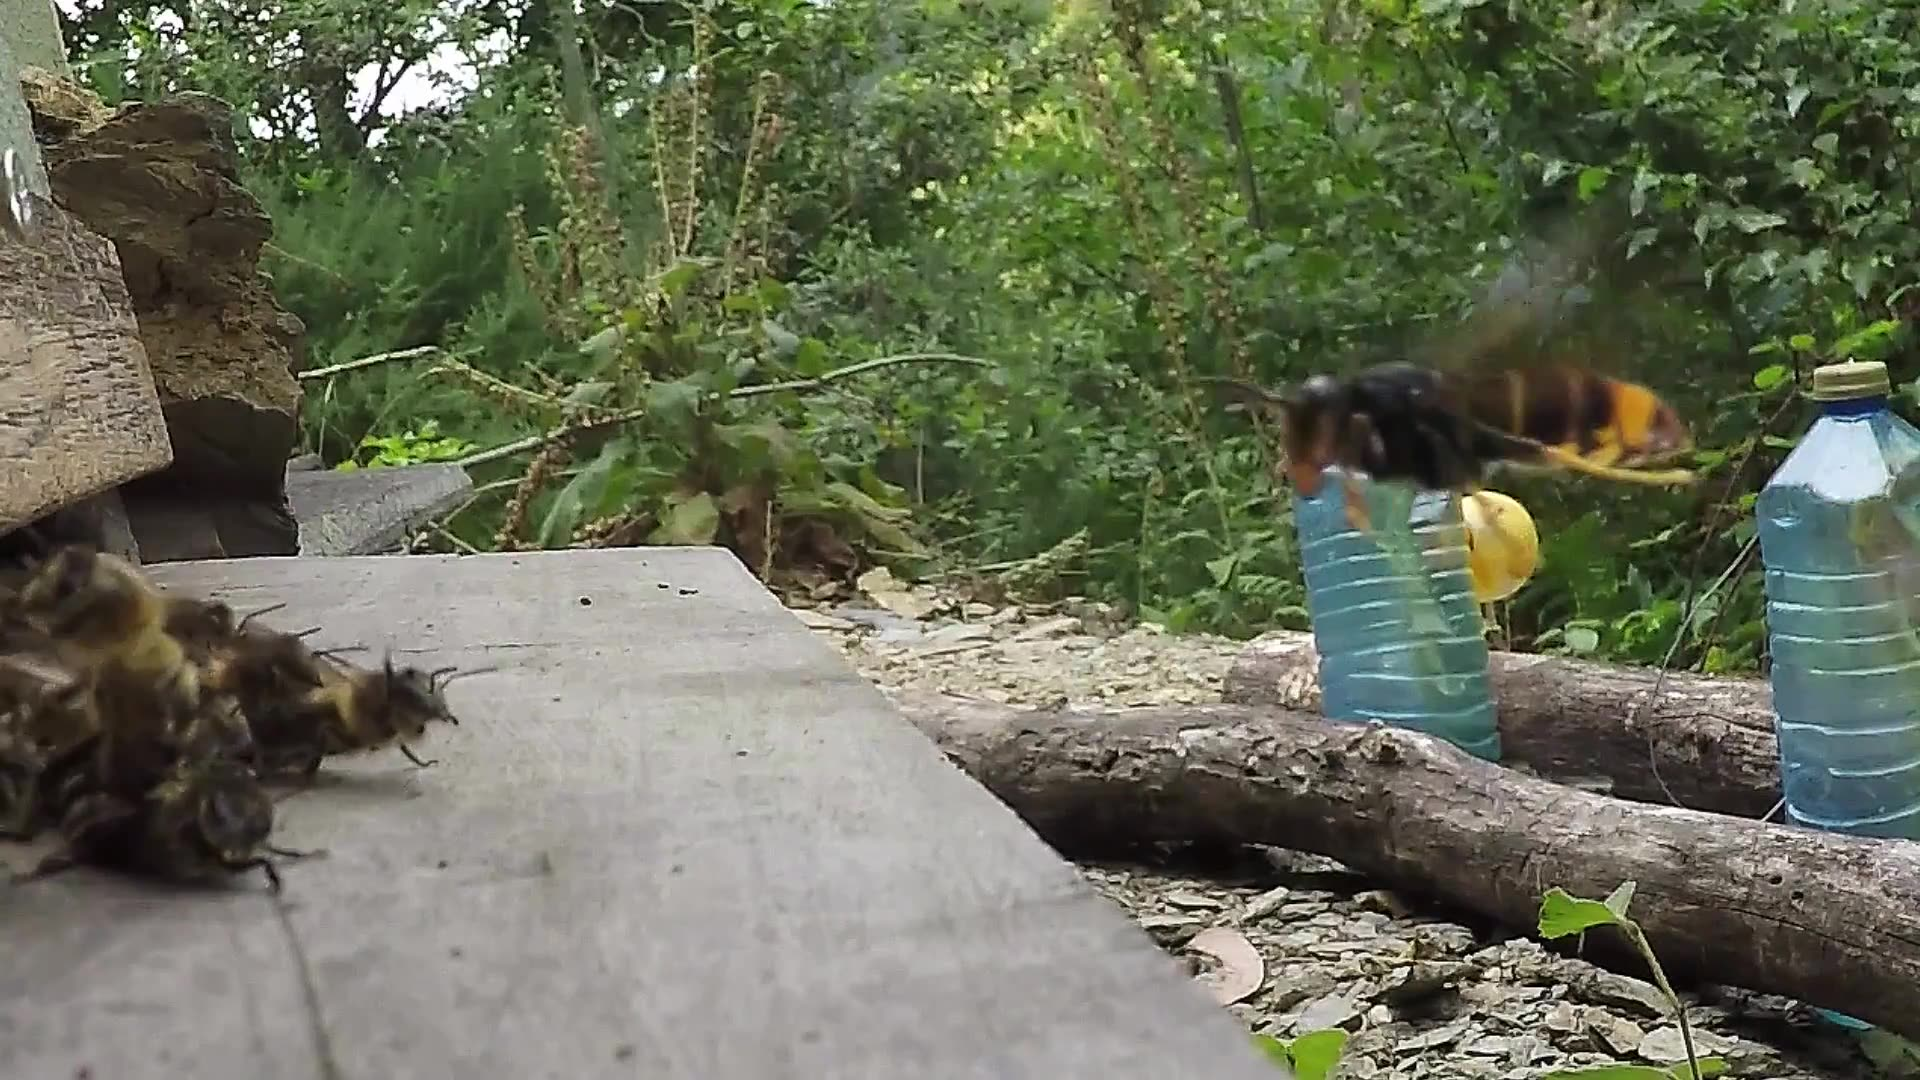bee: (1, 520, 305, 894), (258, 640, 448, 771)
hornet: (1276, 332, 1708, 520)
